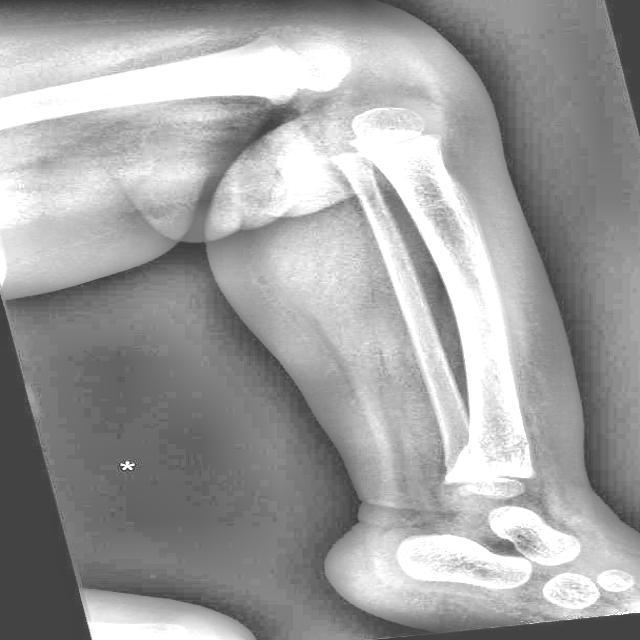fracture: (463, 442, 483, 460)
